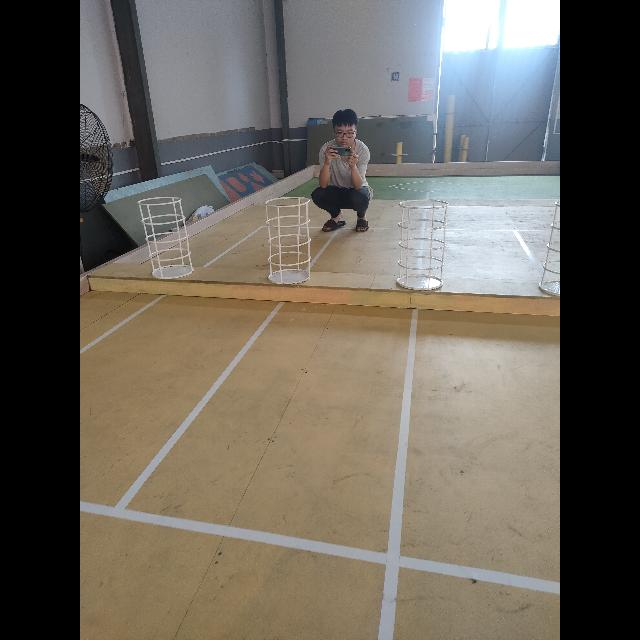S: (136, 192, 196, 282), (397, 201, 450, 294), (262, 194, 313, 288), (536, 199, 560, 302)
